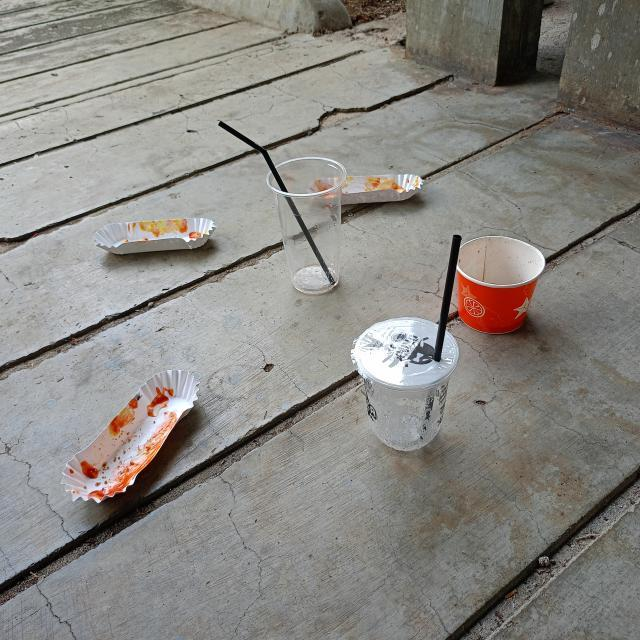recyclable waste: (56, 361, 208, 508), (345, 312, 462, 458), (260, 151, 349, 300), (448, 230, 549, 340), (86, 214, 225, 258), (304, 168, 428, 208)
